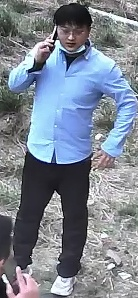phone: (5, 10, 76, 97)
